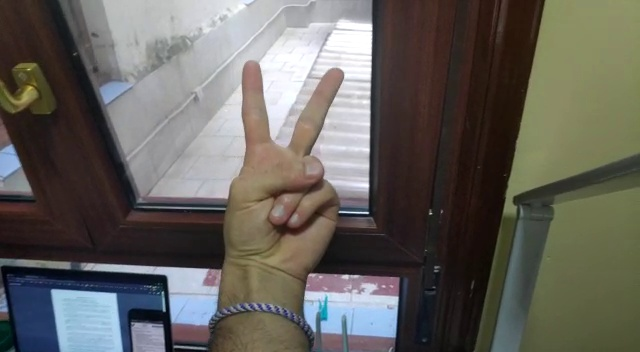Peace: (218, 54, 348, 261)
